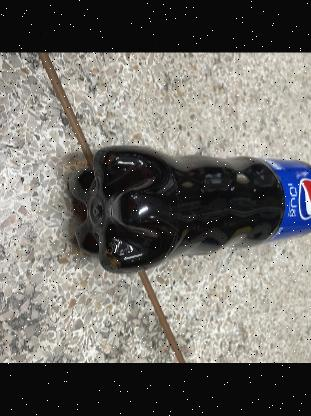Plastic Bottle: (66, 145, 311, 268)
